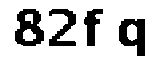2: (47, 6, 78, 50)
8: (14, 5, 45, 48)
f: (82, 7, 107, 48)
q: (116, 15, 150, 57)
